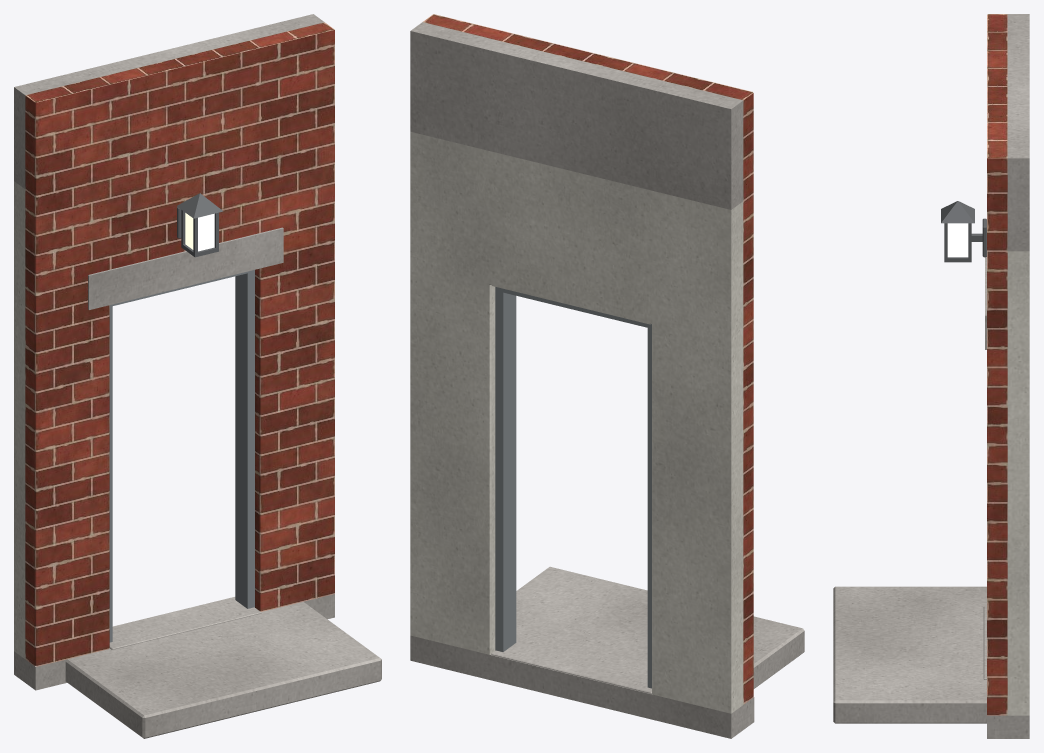
The model's file is w_door.glb.
3 views of the same model, side by side, from view 1: azimuth 30°, elevation 25°; view 2: azimuth 150°, elevation 25°; view 3: azimuth 270°, elevation 25° (orthographic). The views are drawn at different scales.
Parts seen in each view (by area): view 1: w_door_brick, w_door_concrete, w_door_steel, w_door_plaster, w_door_iron, w_door_lamp_glass; view 2: w_door_plaster, w_door_concrete, w_door_brick, w_door_steel; view 3: w_door_concrete, w_door_brick, w_door_plaster, w_door_iron, w_door_lamp_glass.
Boxes of the visible parts, x1,y1,x2,y2 form: w_door_brick: [25, 22, 334, 666]; w_door_concrete: [14, 14, 381, 738]; w_door_steel: [109, 270, 254, 642]; w_door_plaster: [14, 181, 25, 658]; w_door_iron: [177, 193, 223, 257]; w_door_lamp_glass: [185, 213, 214, 251]; w_door_plaster: [410, 131, 743, 713]; w_door_concrete: [410, 22, 804, 738]; w_door_brick: [423, 14, 753, 704]; w_door_steel: [495, 287, 651, 688]; w_door_concrete: [833, 14, 1029, 738]; w_door_brick: [987, 14, 1007, 715]; w_door_plaster: [1007, 251, 1029, 715]; w_door_iron: [941, 201, 986, 262]; w_door_lamp_glass: [947, 223, 968, 257].
Size of the model in its own units: 2 by 3.75 by 1.15.
6 materials, 3 textured.
